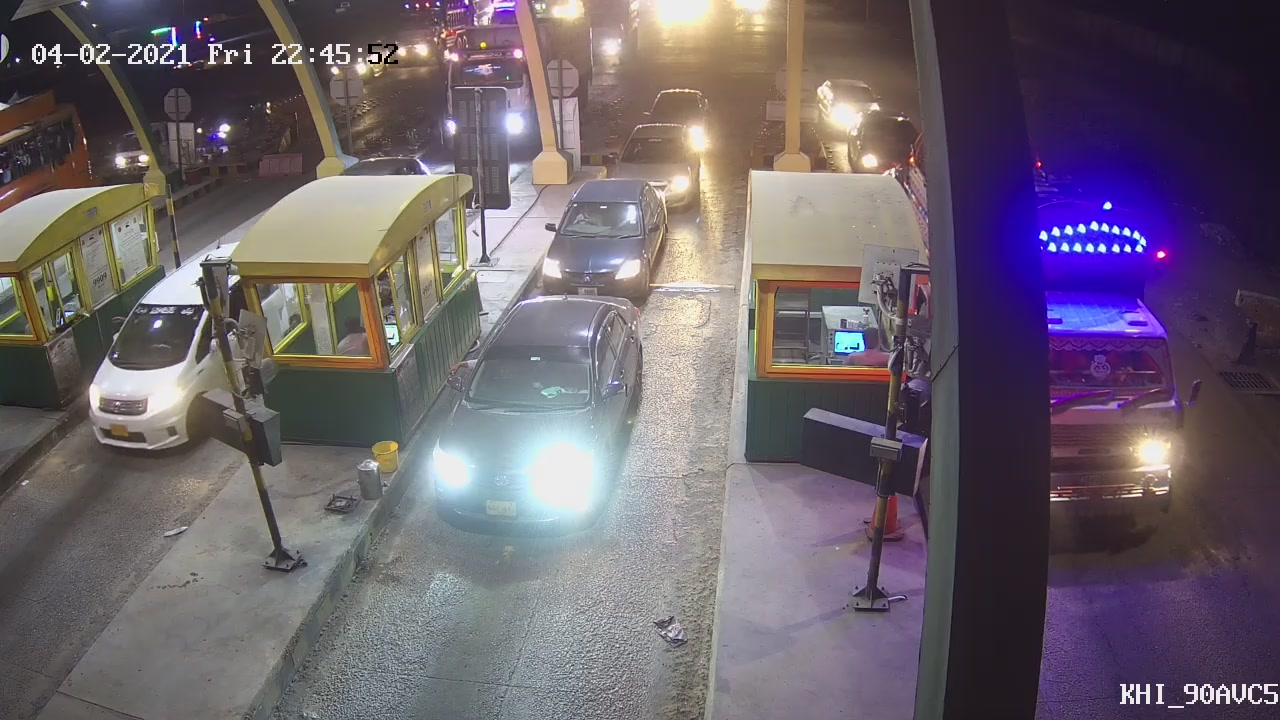F1: (425, 294, 648, 540), (525, 173, 675, 305)
